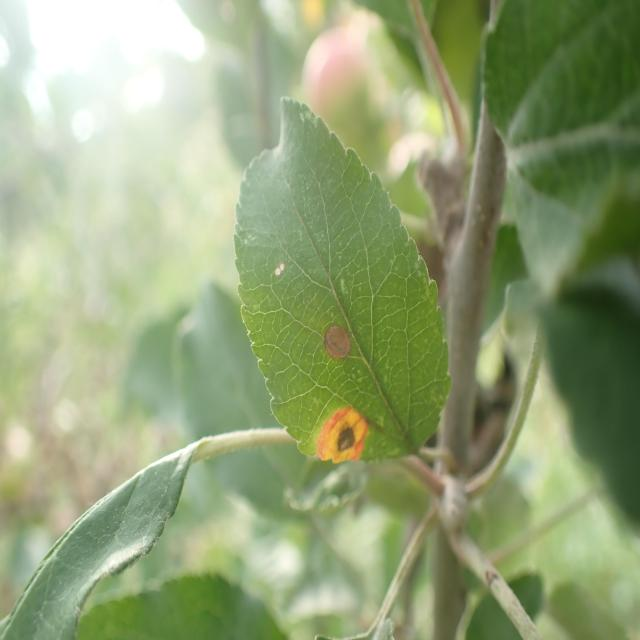frog-eye-leaf-spot: (233, 95, 452, 466)
